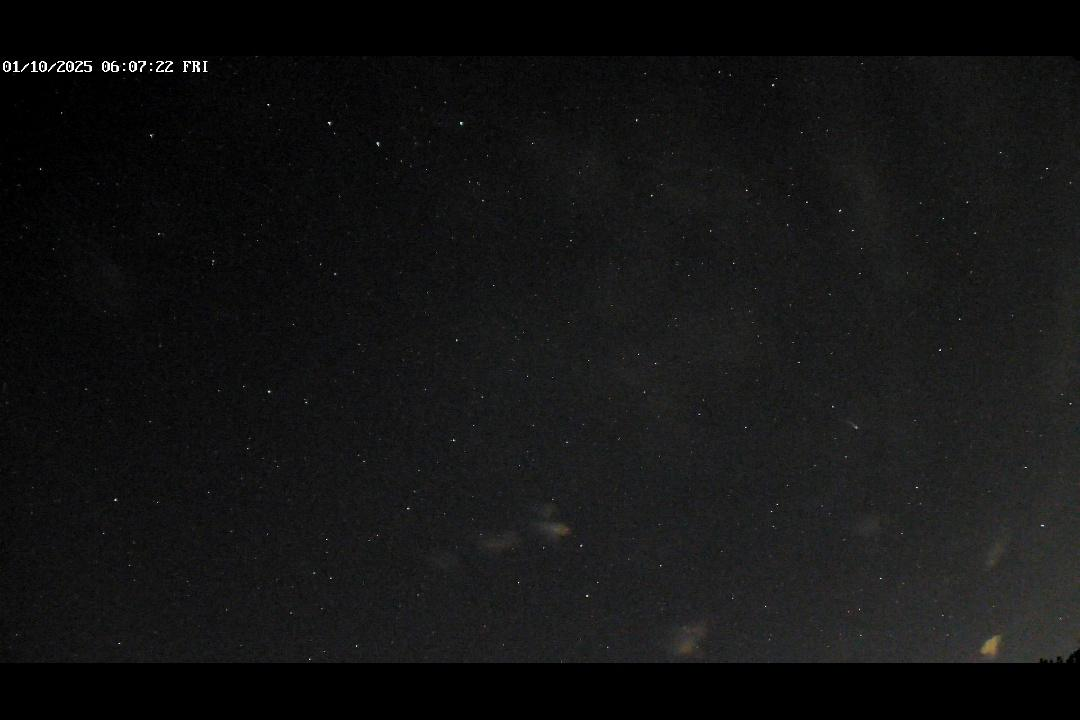Plane: (834, 413, 869, 436)
